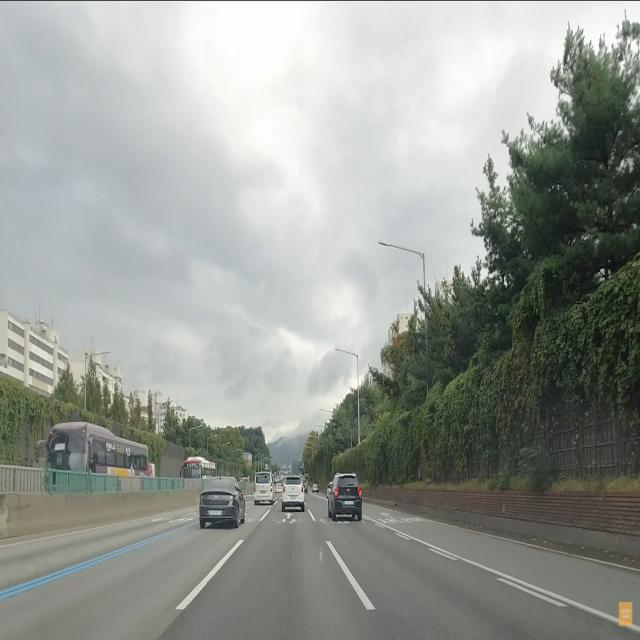forward: (262, 512, 314, 518)
